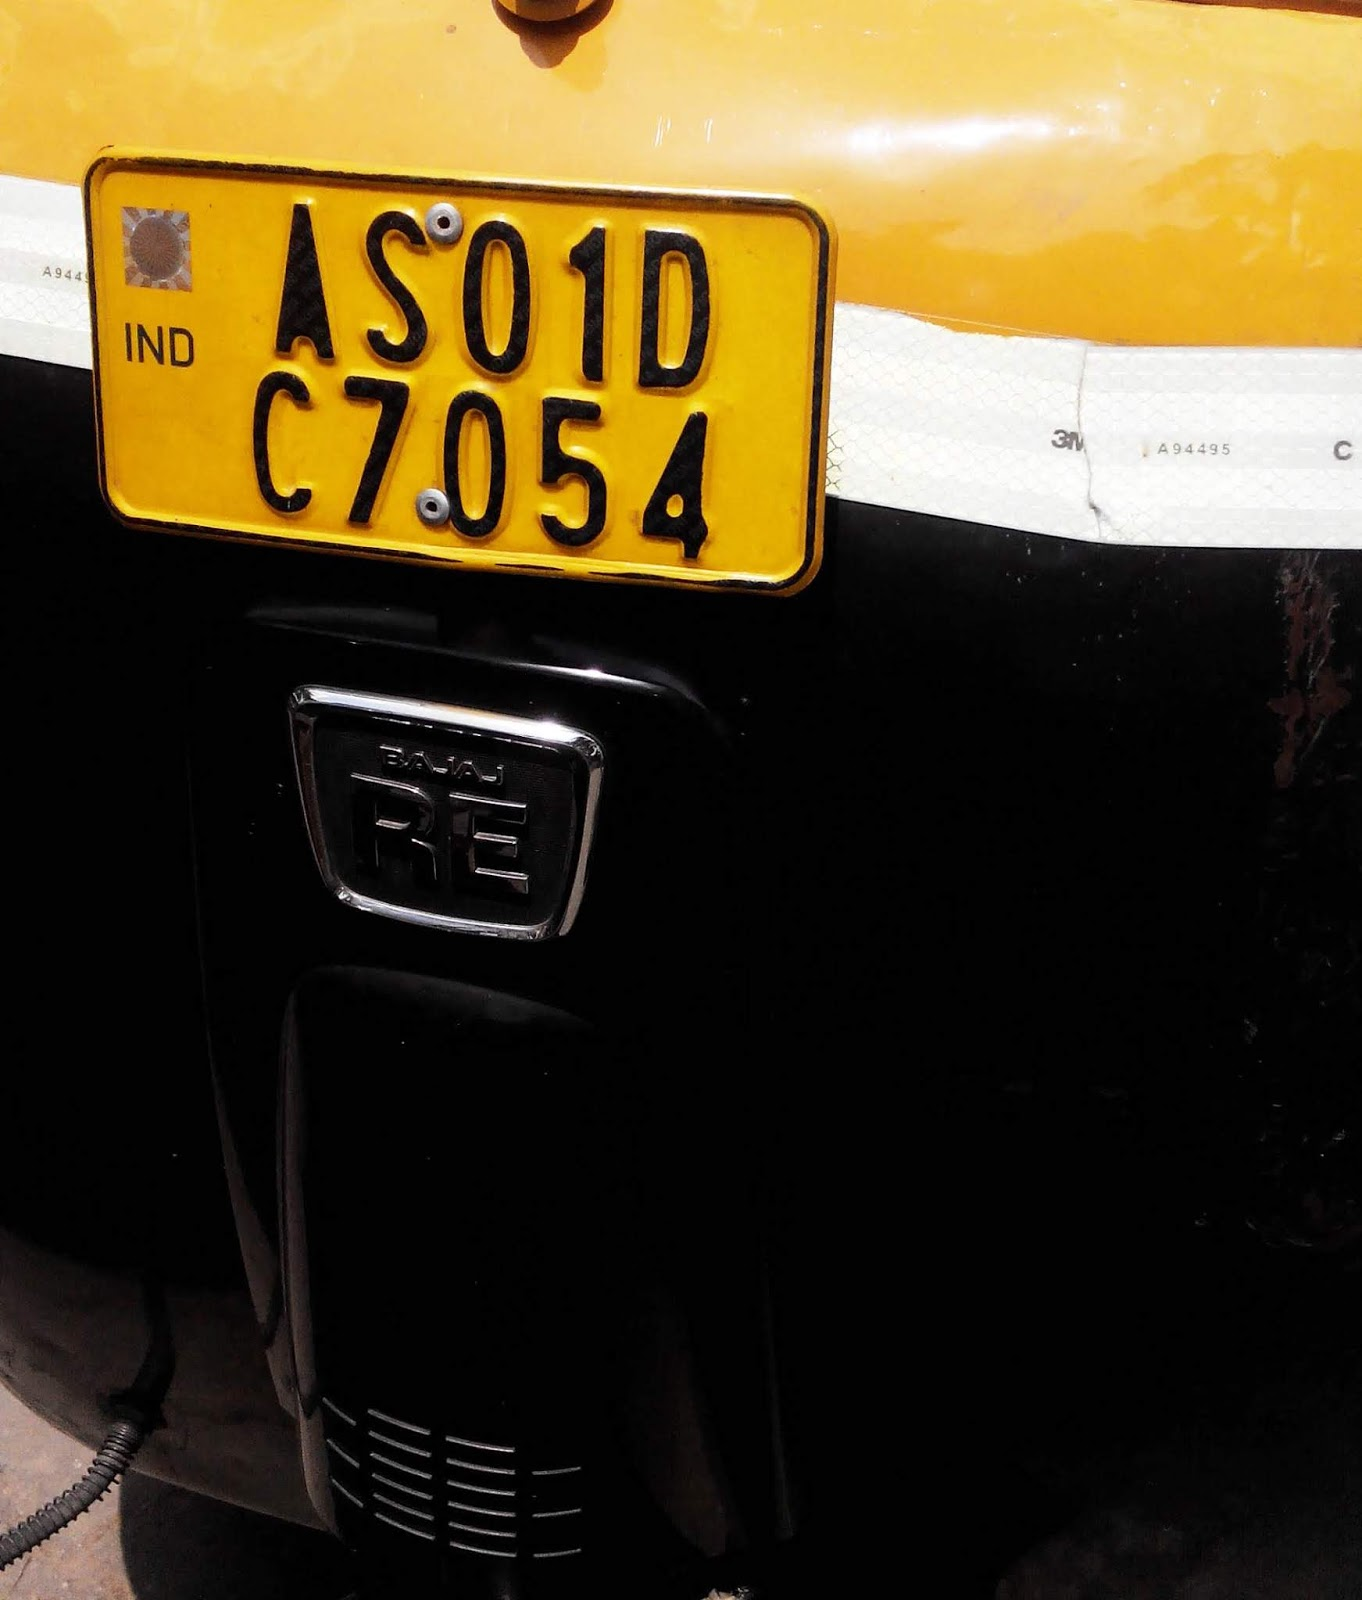doublelinenumberplate: (78, 143, 831, 592)
